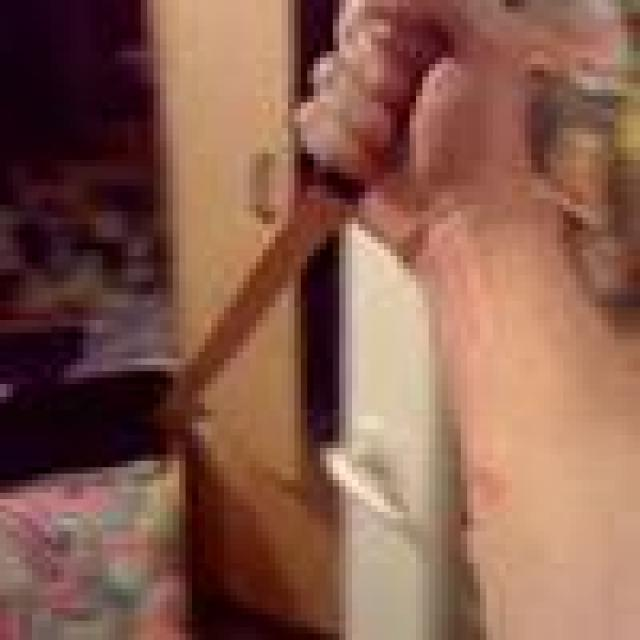knife: (166, 180, 342, 408)
